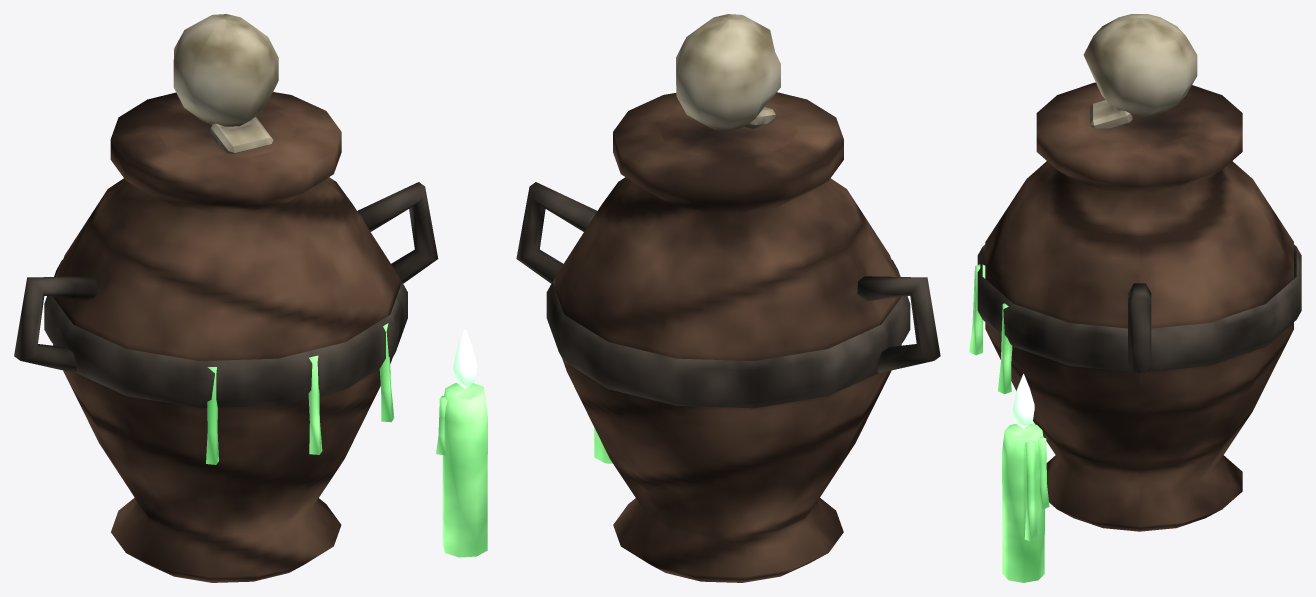
File: Ossuary_Prop_C.fbx
3 views of the same model, side by side, from view 1: azimuth 30°, elevation 25°; view 2: azimuth 150°, elevation 25°; view 3: azimuth 270°, elevation 25° (orthographic). The views are drawn at different scales.
Parts seen in each view (by area): view 1: Ossuary_Prop_C; view 2: Ossuary_Prop_C; view 3: Ossuary_Prop_C.
Part boxes in pixels (x1,y1,x2,y2): Ossuary_Prop_C: (14,14,487,582); Ossuary_Prop_C: (516,14,940,582); Ossuary_Prop_C: (969,14,1301,582).
Bounding box in the file's own units: 0.8341 × 1 × 0.6301.
